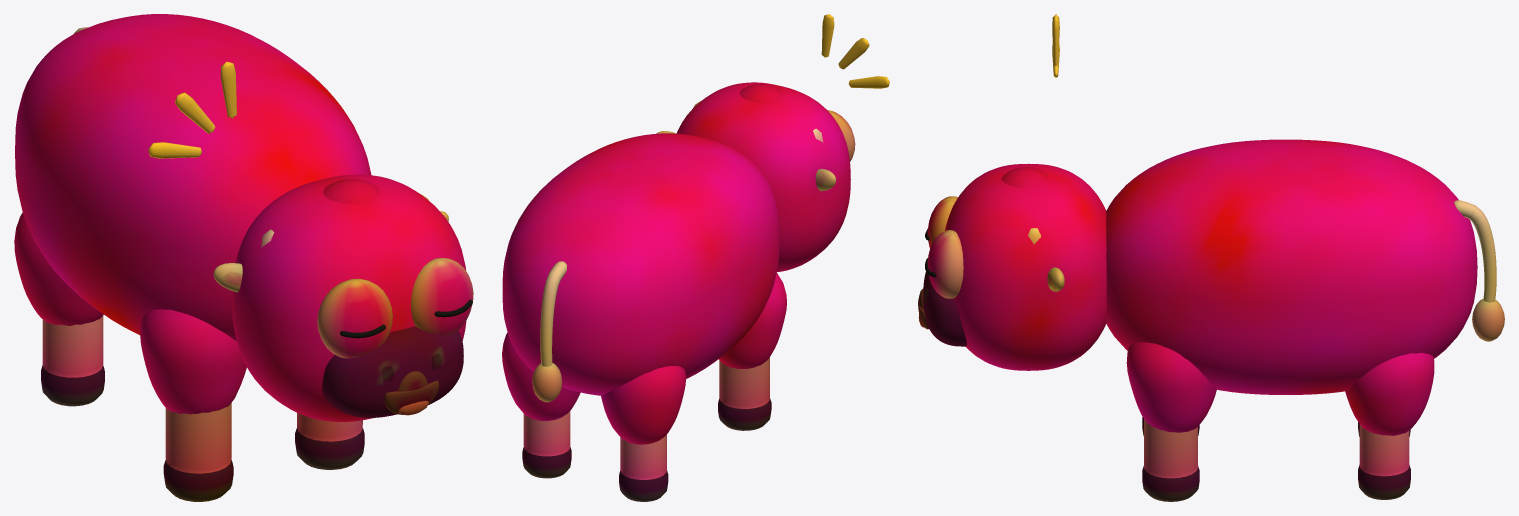
Rendered from Bison_Calf.glb.
3 views of the same model, side by side, from view 1: azimuth 30°, elevation 25°; view 2: azimuth 150°, elevation 25°; view 3: azimuth 270°, elevation 25° (orthographic). The views are drawn at different scales.
Parts seen in each view (by area): view 1: Body, Head, Leg_FR, Leg_BR, Muzzle, Blink_R, Blink_L, Leg_FL, Fx_Alert, Mouth_Happy, Tuft, Ear_R; view 2: Body, Head, Leg_BR, Leg_FR, Leg_BL, Tail, Fx_Alert, Tuft, Blink_R; view 3: Body, Head, Leg_FL, Leg_BL, Tail, Blink_L, Muzzle, Blink_R, Tuft.
Part boxes in pixels (left/top/right/bottom): Body: left=15, top=14, right=371, bottom=340; Head: left=232, top=174, right=466, bottom=421; Leg_FR: left=140, top=309, right=246, bottom=501; Leg_BR: left=14, top=212, right=104, bottom=406; Muzzle: left=322, top=326, right=463, bottom=417; Blink_R: left=317, top=278, right=392, bottom=358; Blink_L: left=411, top=258, right=473, bottom=335; Leg_FL: left=295, top=413, right=364, bottom=469; Fx_Alert: left=148, top=61, right=236, bottom=158; Mouth_Happy: left=384, top=380, right=439, bottom=415; Tuft: left=323, top=179, right=379, bottom=204; Ear_R: left=213, top=263, right=242, bottom=292; Body: left=502, top=133, right=779, bottom=395; Head: left=676, top=82, right=850, bottom=271; Leg_BR: left=601, top=366, right=685, bottom=501; Leg_FR: left=718, top=273, right=786, bottom=430; Leg_BL: left=502, top=332, right=580, bottom=478; Tail: left=532, top=261, right=566, bottom=402; Fx_Alert: left=821, top=14, right=889, bottom=88; Tuft: left=739, top=84, right=782, bottom=102; Blink_R: left=827, top=110, right=855, bottom=161; Body: left=1106, top=139, right=1477, bottom=394; Head: left=945, top=163, right=1106, bottom=370; Leg_FL: left=1126, top=342, right=1216, bottom=501; Leg_BL: left=1345, top=352, right=1434, bottom=499; Tail: left=1454, top=200, right=1504, bottom=341; Blink_L: left=925, top=230, right=963, bottom=298; Muzzle: left=923, top=272, right=966, bottom=346; Blink_R: left=925, top=196, right=957, bottom=248; Tuft: left=1001, top=167, right=1048, bottom=188.
Size of the model in its own units: 0.621 by 0.9182 by 1.2.
